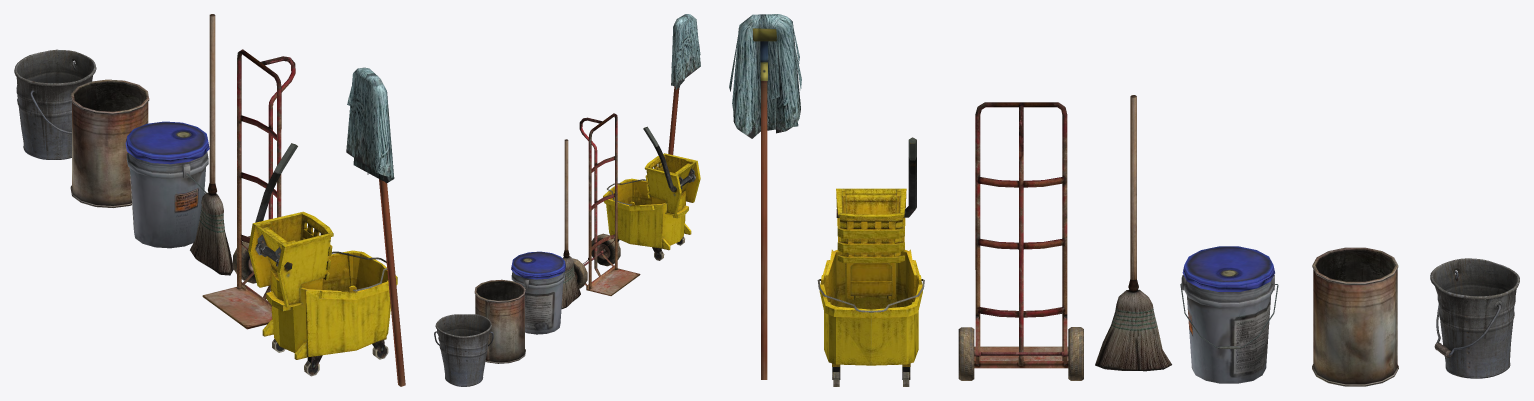
Rendered from saoba.fbx.
3 renders of one model, left to right at view 1: azimuth 30°, elevation 25°; view 2: azimuth 150°, elevation 25°; view 3: azimuth 270°, elevation 25°, orthographic. The views are drawn at different scales.
Visible parts, largest first — view 1: mopbucket1, bucker1, bucker2, bucket3, MopStanding, dolly1, Broom; view 2: mopbucket1, dolly1, bucker1, bucker2, bucket3, MopStanding, Broom; view 3: mopbucket1, bucker2, bucker1, dolly1, MopStanding, bucket3, Broom.
Boxes of the visible parts, x1,y1,x2,y2 form: mopbucket1: (248, 143, 397, 376); bucker1: (125, 121, 209, 248); bucker2: (70, 79, 149, 207); bucket3: (14, 49, 96, 159); MopStanding: (346, 67, 405, 386); dolly1: (202, 49, 295, 329); Broom: (190, 14, 233, 275); mopbucket1: (603, 126, 700, 260); dolly1: (573, 113, 640, 295); bucker1: (511, 251, 565, 334); bucker2: (474, 279, 525, 363); bucket3: (434, 314, 493, 386); MopStanding: (668, 14, 700, 154); Broom: (561, 139, 580, 309); mopbucket1: (817, 137, 924, 386); bucker2: (1312, 247, 1398, 386); bucker1: (1180, 246, 1278, 383); dolly1: (958, 102, 1083, 380); MopStanding: (729, 14, 801, 379); bucket3: (1430, 258, 1519, 378); Broom: (1095, 95, 1171, 371).
Size of the model in its own units: 202 by 499 by 1028.
Materials: 7 (7 with a texture image).
